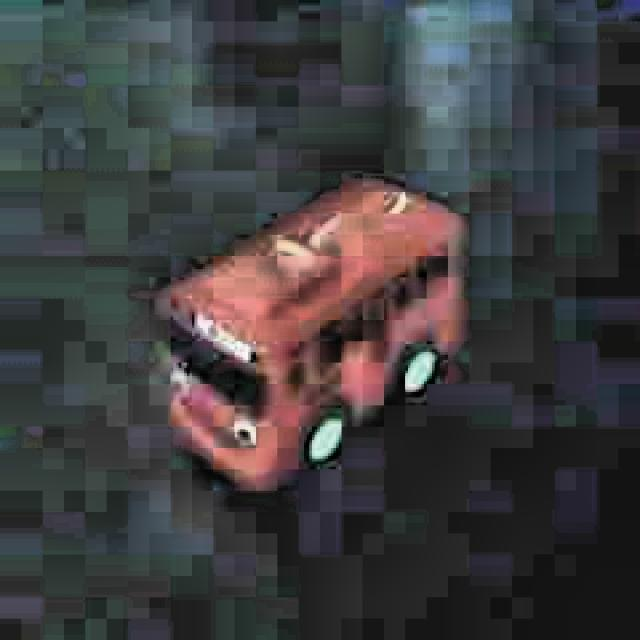bus: (150, 164, 478, 508)
